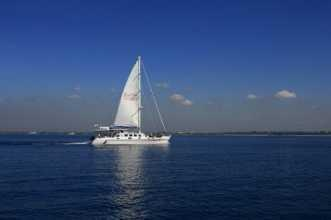fanchuan: (86, 53, 187, 149)
